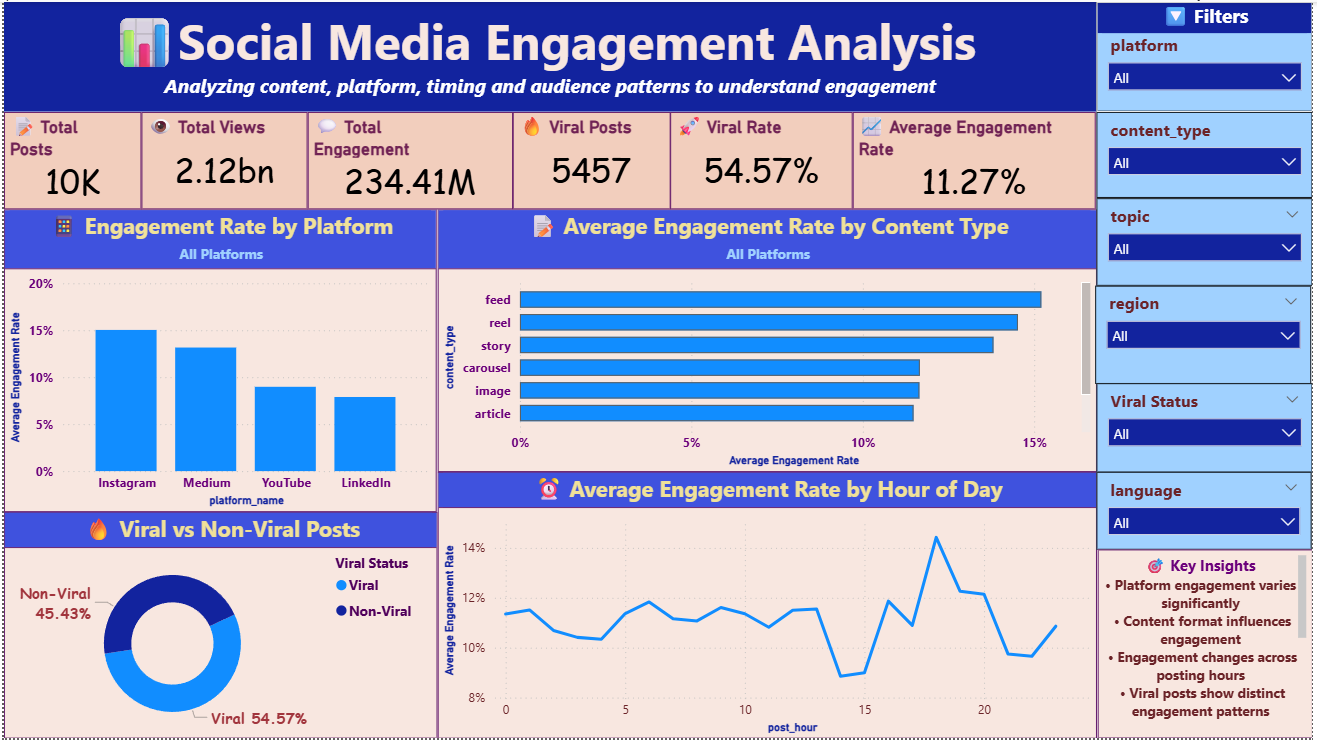

The page's visual inventory and layout, read from the dashboard file:
{"tool":"powerbi","page":{"name":"Page 1","canvas":[1280,720],"ordinal":0},"visuals":[{"type":"textbox","box":[0,0,1068.6,107.1],"z":0},{"type":"card","title":"📝 Total Posts","fields":{"Values":["social_media_posts.Total Posts"]},"box":[0,107.6,134.5,95.4],"z":1000},{"type":"card","title":"👁️ Total Views","fields":{"Values":["social_media_posts.Total Views"]},"box":[134.5,107.6,162.6,95.4],"z":2000},{"type":"card","title":"🔥 Viral Posts","fields":{"Values":["social_media_posts.Viral Posts"]},"box":[497.7,107.6,154.1,95.4],"z":3000},{"type":"card","title":"🚀 Viral Rate","fields":{"Values":["social_media_posts.Viral Rate"]},"box":[651.8,107.6,178.5,95.4],"z":4000},{"type":"card","title":"💬 Total Engagement","fields":{"Values":["social_media_posts.Total Engagement"]},"box":[297.1,107.6,200.5,95.4],"z":5000},{"type":"card","title":"📈 Average Engagement Rate","fields":{"Values":["fact_social_posts.Average Engagement Rate"]},"box":[830.3,107.6,237.2,95.4],"z":6000},{"type":"columnChart","title":"📱 Engagement Rate by Platform","fields":{"Category":["dim_platform.platform_name"],"Y":["fact_social_posts.Average Engagement Rate"]},"box":[0,203,423.1,295.9],"z":7000},{"type":"clusteredBarChart","title":"📝 Average Engagement Rate by Content Type","fields":{"Y":["fact_social_posts.Average Engagement Rate"],"Category":["dim_content.content_type"]},"box":[424.3,203,644.4,256.8],"z":8000},{"type":"donutChart","title":"🔥 Viral vs Non-Viral Posts","fields":{"Y":["CountNonNull(social_media_posts.post_id)"],"Category":["social_media_posts.Viral Status"]},"box":[0,498.6,424.3,221.4],"z":9000},{"type":"lineChart","title":"⏰ Average Engagement Rate by Hour of Day","fields":{"Category":["fact_social_posts.post_hour"],"Y":["fact_social_posts.Average Engagement Rate"]},"box":[424.3,459.8,644.4,260.5],"z":10000},{"type":"slicer","title":"🔽  Filters","fields":{"Values":["social_media_posts.platform"]},"box":[1068.6,0,211.4,107.1],"z":11000},{"type":"slicer","fields":{"Values":["social_media_posts.content_type"]},"box":[1068.6,107.1,211.4,84.3],"z":12000},{"type":"slicer","fields":{"Values":["social_media_posts.topic"]},"box":[1068.6,191.4,211.4,85.7],"z":13000},{"type":"slicer","fields":{"Values":["social_media_posts.region"]},"box":[1067.1,277.1,211.4,95.7],"z":14000},{"type":"slicer","fields":{"Values":["social_media_posts.language"]},"box":[1068.8,459.8,210.3,75.8],"z":15000},{"type":"slicer","fields":{"Values":["social_media_posts.Viral Status"]},"box":[1068.6,372.9,211.4,87.1],"z":16000},{"type":"textbox","box":[1070,535.6,210.3,184.6],"z":17000}]}

Visuals, with their boxes in screenshot pixels (x1, y1, x2, y2), scaled from the page's 1280x720 canvas onto the 1317x741 screenshot:
textbox: 0:0:1099:110
"📝 Total Posts" card: 0:111:138:209
"👁️ Total Views" card: 138:111:306:209
"🔥 Viral Posts" card: 512:111:671:209
"🚀 Viral Rate" card: 671:111:854:209
"💬 Total Engagement" card: 306:111:512:209
"📈 Average Engagement Rate" card: 854:111:1098:209
"📱 Engagement Rate by Platform" columnChart: 0:209:435:513
"📝 Average Engagement Rate by Content Type" clusteredBarChart: 437:209:1100:473
"🔥 Viral vs Non-Viral Posts" donutChart: 0:513:437:740
"⏰ Average Engagement Rate by Hour of Day" lineChart: 437:473:1100:740
"🔽  Filters" slicer: 1099:0:1316:110
slicer - social_media_posts.content_type: 1099:110:1316:197
slicer - social_media_posts.topic: 1099:197:1316:285
slicer - social_media_posts.region: 1098:285:1315:384
slicer - social_media_posts.language: 1100:473:1316:551
slicer - social_media_posts.Viral Status: 1099:384:1316:473
textbox: 1101:551:1316:740
